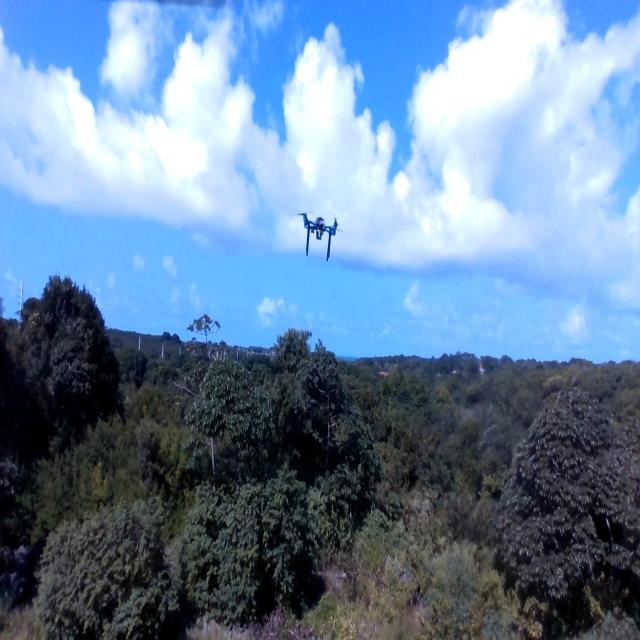-uav-: (297, 198, 345, 276)
